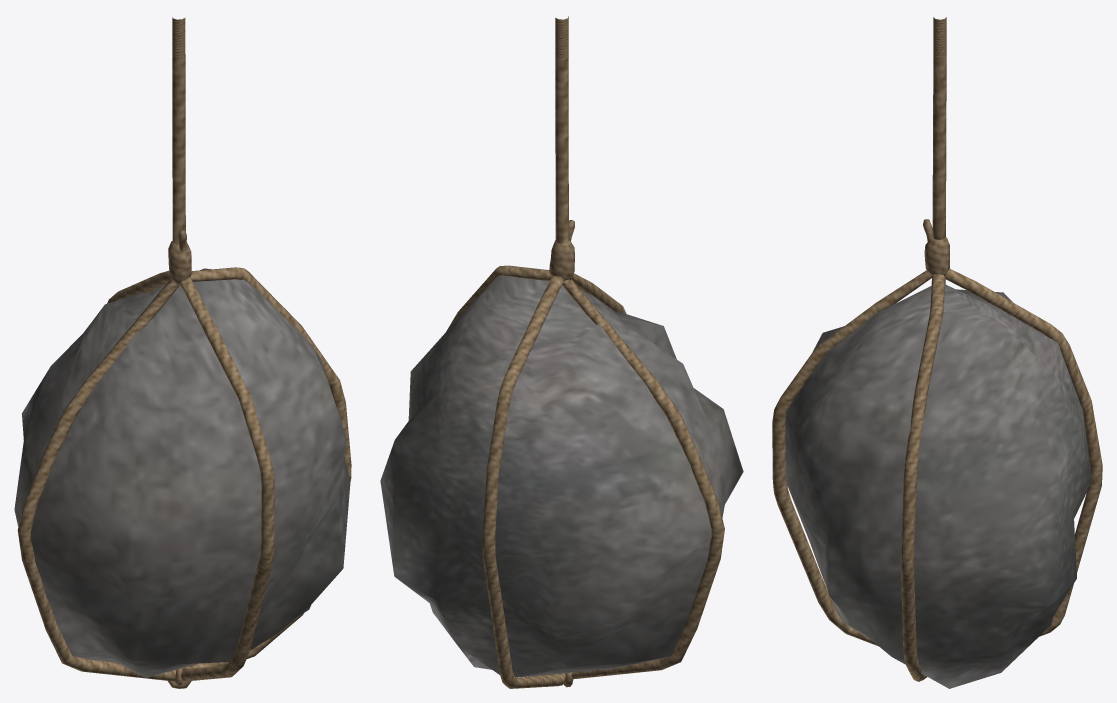
File: SK_NooseTrap_Rock_1ee224.glb
The picture shows the model from 3 angles, left to right: view 1: azimuth 30°, elevation 25°; view 2: azimuth 150°, elevation 25°; view 3: azimuth 270°, elevation 25°; orthographic projection.
Size of the model in its own units: 1.1 by 2.22 by 1.01.
1 material, 1 textured.
